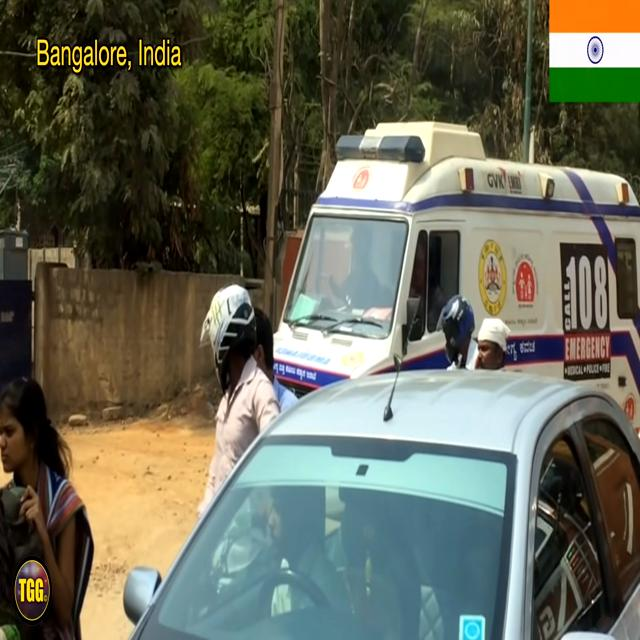emergency-vehicles: (256, 88, 640, 448)
